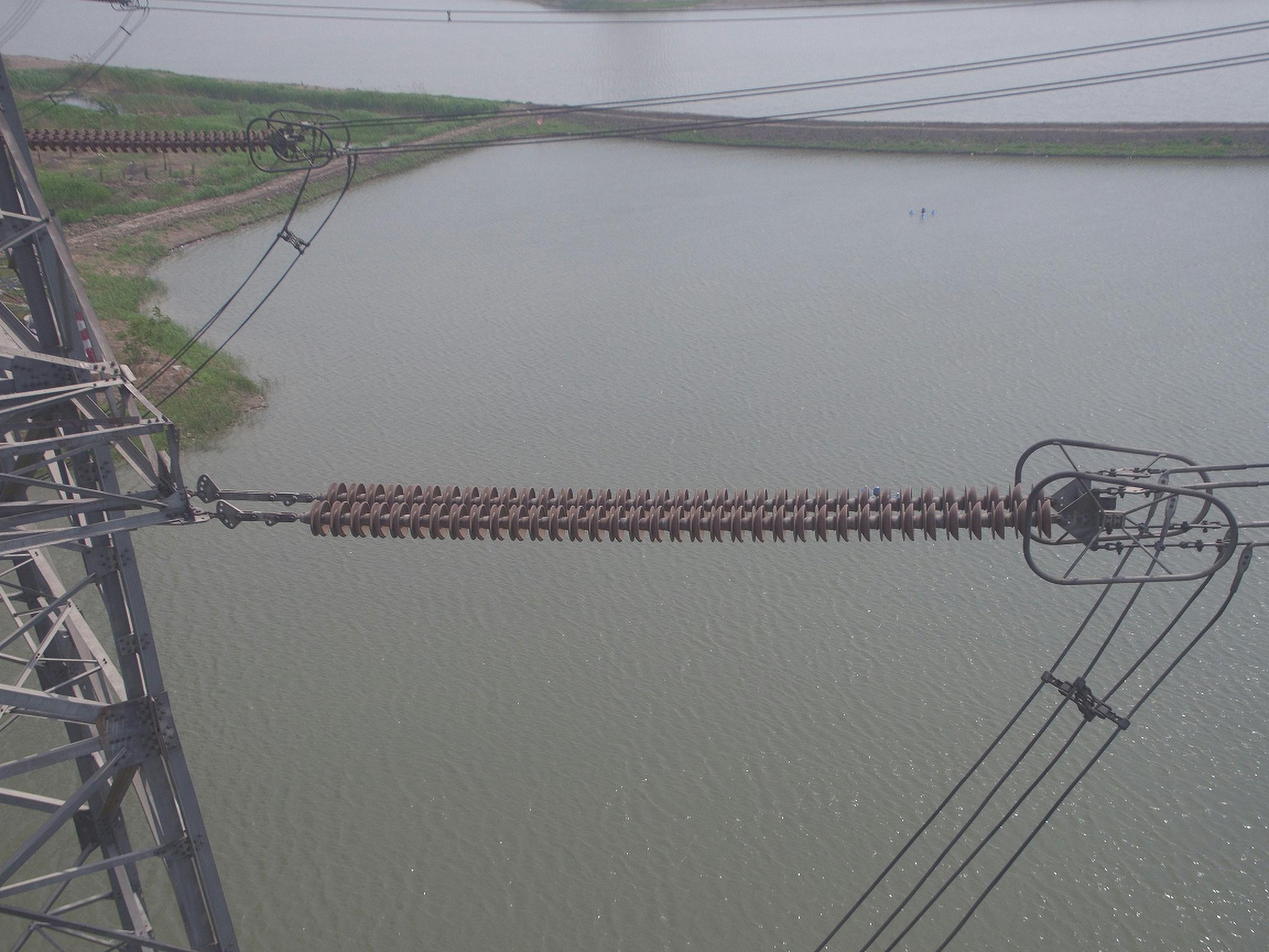insulator: (303, 477, 1066, 549), (21, 126, 275, 154)
